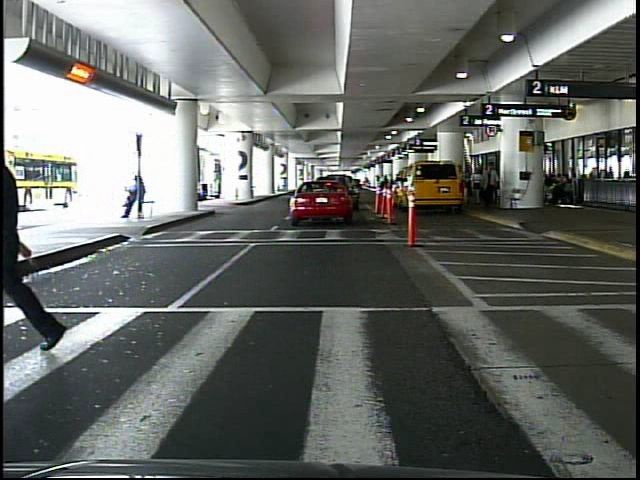person: (4, 125, 69, 349), (482, 163, 499, 209)
